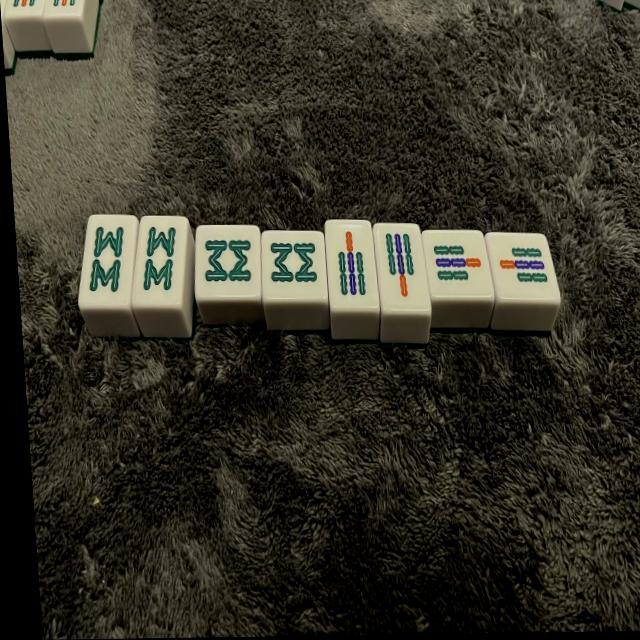7B: (488, 236, 561, 300), (325, 224, 379, 310), (376, 227, 431, 311), (424, 233, 494, 298)
8B: (74, 217, 143, 308), (130, 217, 194, 306), (194, 228, 262, 297), (262, 236, 329, 301)
